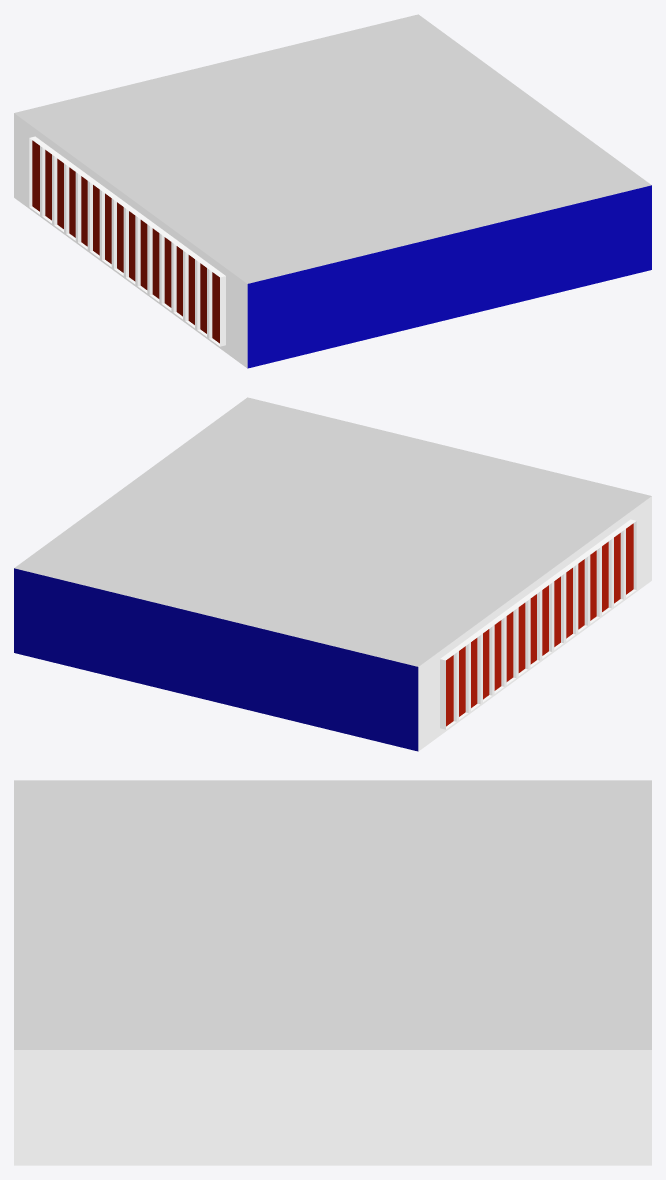
File: Room_v2.glb
3 renders of one model, top to bottom at view 1: azimuth 30°, elevation 25°; view 2: azimuth 150°, elevation 25°; view 3: azimuth 270°, elevation 25°, orthographic. The views are drawn at different scales.
Parts seen in each view (by area): view 1: floor.001, wall.002, wall, glass_wall; view 2: floor.001, wall.001, wall, glass_wall; view 3: floor.001, floor.
Boxes of the visible parts, box(x1,y1,x2,y2) form: floor.001: box(14, 14, 651, 283); wall.002: box(247, 185, 651, 368); wall: box(14, 113, 247, 368); glass_wall: box(32, 140, 219, 343); floor.001: box(14, 397, 651, 666); wall.001: box(14, 568, 418, 751); wall: box(418, 496, 651, 751); glass_wall: box(446, 523, 633, 726); floor.001: box(14, 780, 651, 1049); floor: box(14, 1050, 651, 1165).
Bounding box in the file's own units: 203 × 40 × 200.
